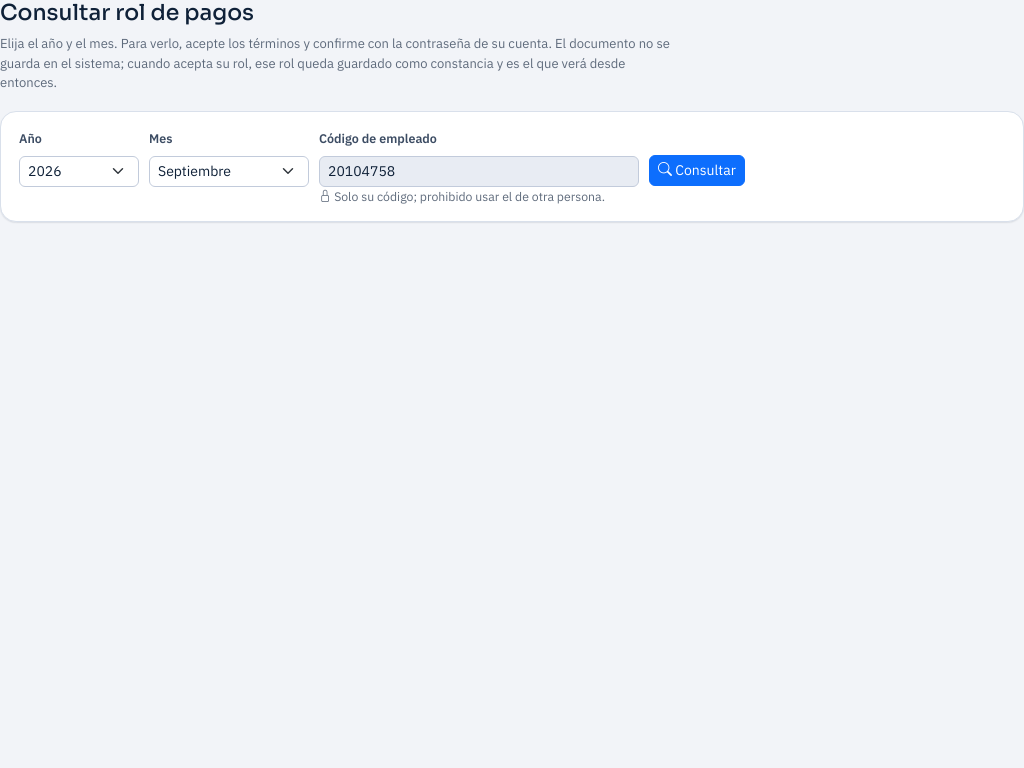
Consultar rol de pagos › en el visor se confirma que está de acuerdo
The image size is (1024, 768).
Expected: the field labelled "Código de empleado" holds "20104758", [319,156,639,187]
Select "2026" in the dropdown labelled "Año". click: (79, 171)
box: [19,156,139,187]
Select "Septiembre" in the dropdown labelled "Mes". click: (229, 171)
box: [149,156,309,187]
Click the button "Consultar". click: click(697, 170)
box: [649,155,745,186]
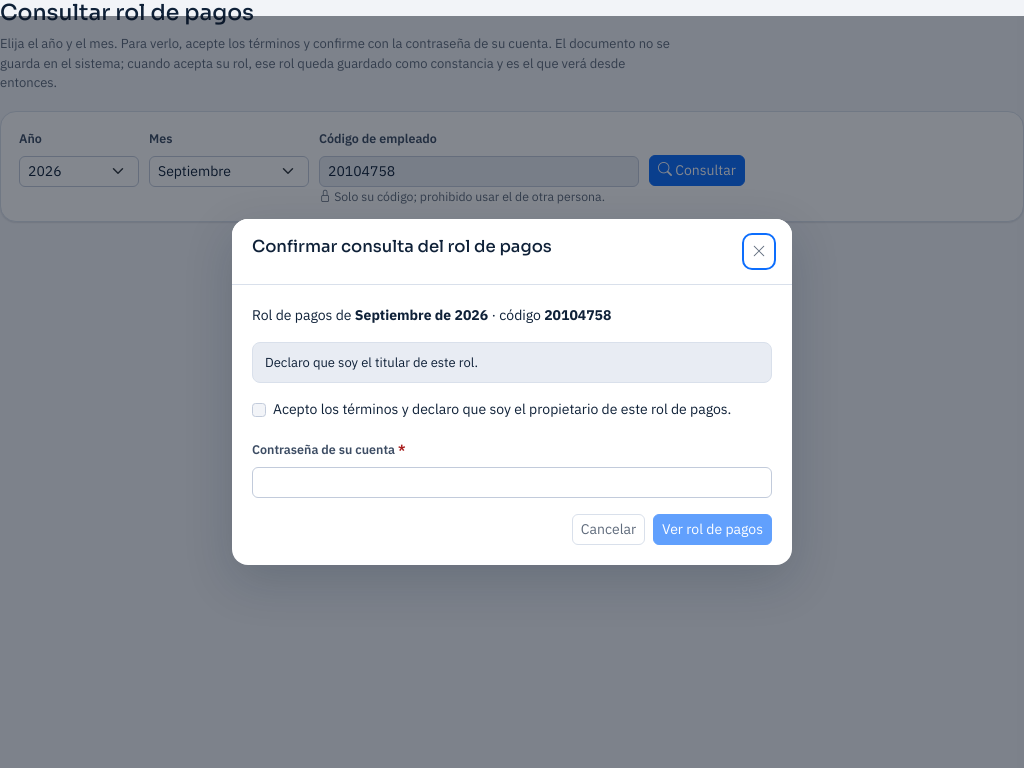
Click the checkbox. click: click(259, 410)
box: [252,403,266,417]
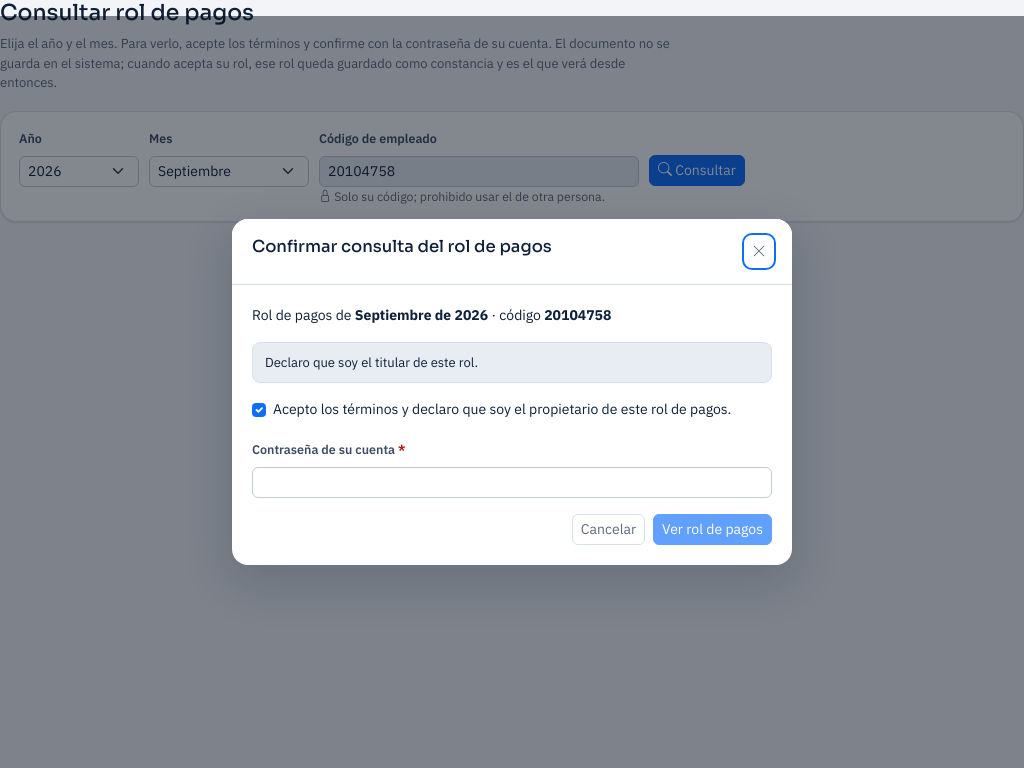
Type "secreta" into the password field labelled "Contraseña de su cuenta *". click: (512, 483)
box: [252,467,772,498]
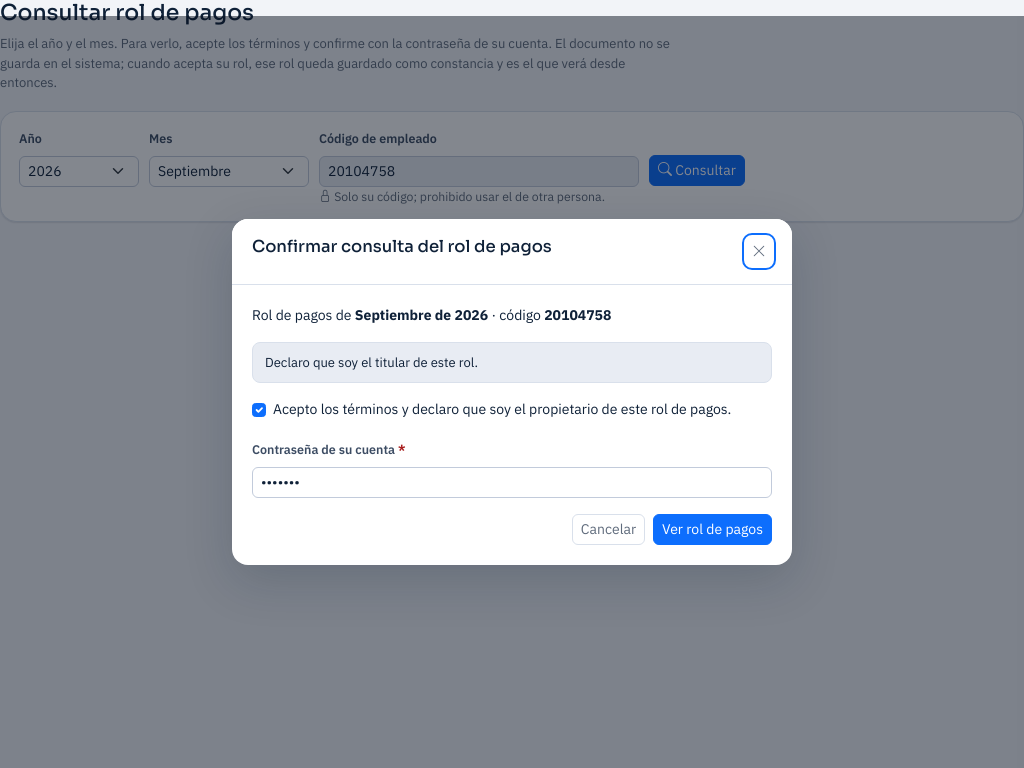
Click the button "Ver rol de pagos". click: click(713, 530)
box: [653,514,772,545]
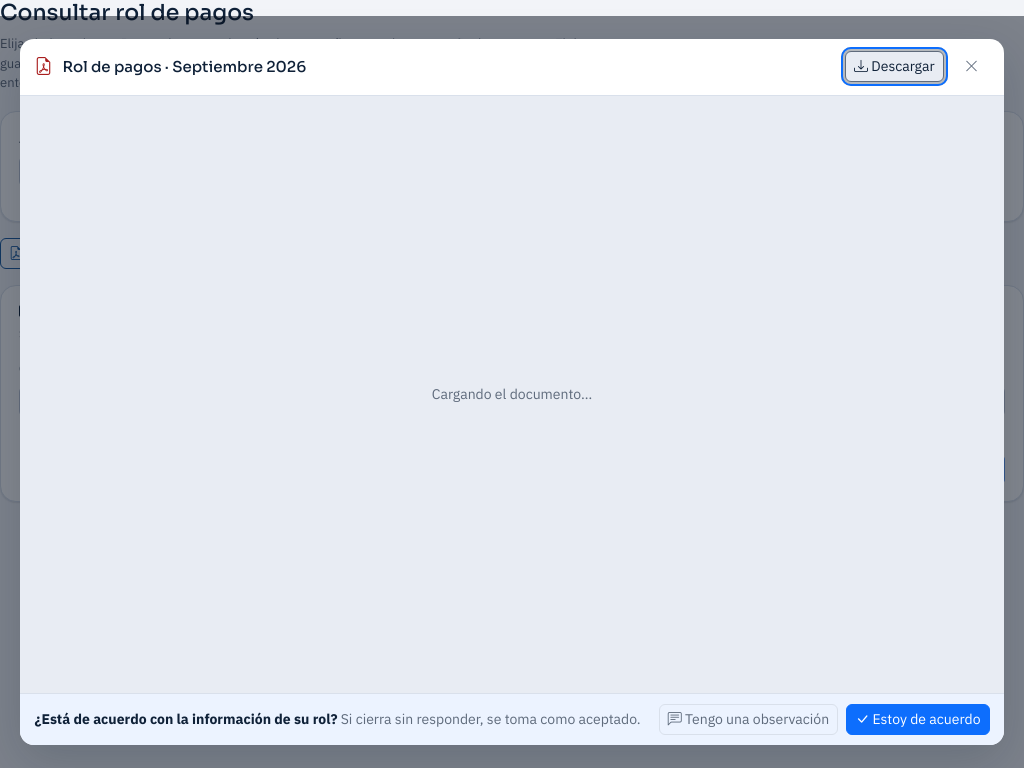
Click the button "Estoy de acuerdo". click: click(918, 720)
box: [846,704,990,735]
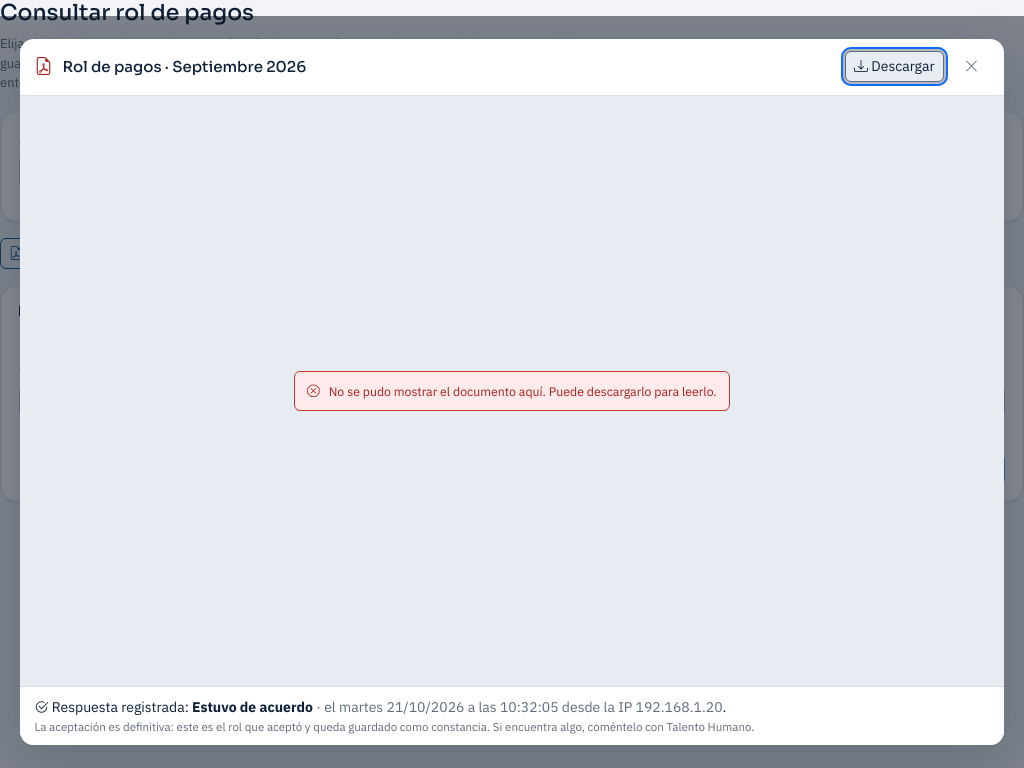
Expected: the text "Estuvo de acuerdo" is shown, [192,698,313,716]
Expected: the text "el martes 21/10/2026 a las 10:32:05 desde la IP 192.168.1.20" is shown, [313,698,723,716]
Click the button named "Cerrar visor". click: click(972, 67)
box: [954,49,990,85]
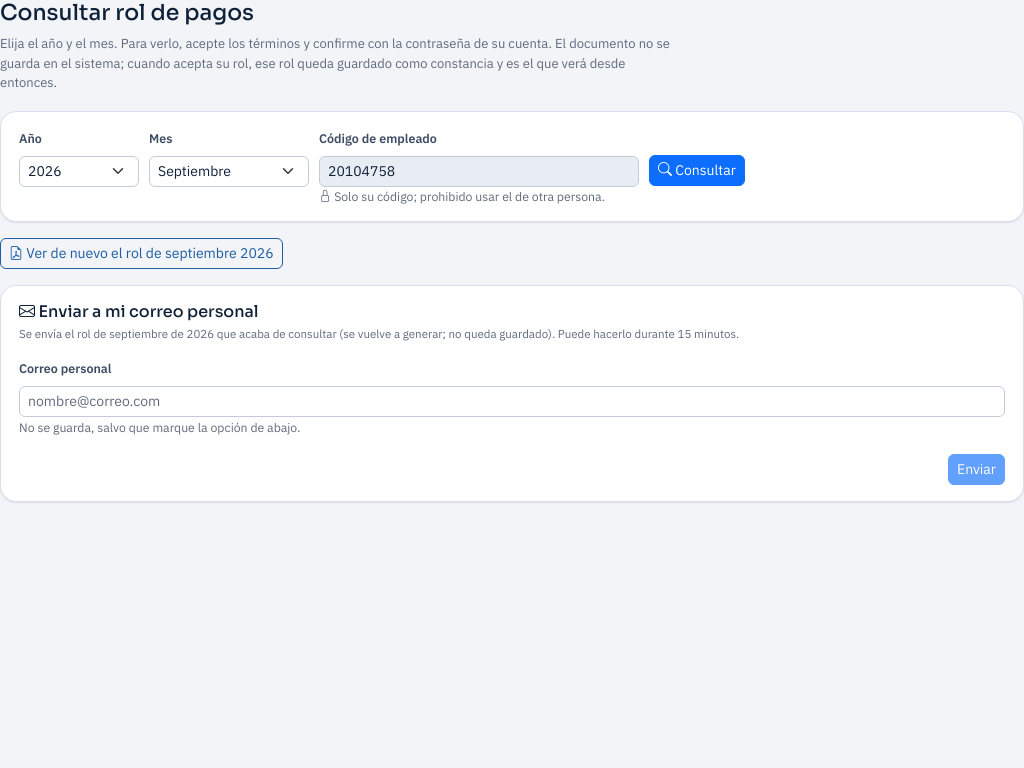
Expected: the heading "Rol de pagos ·" is gone
